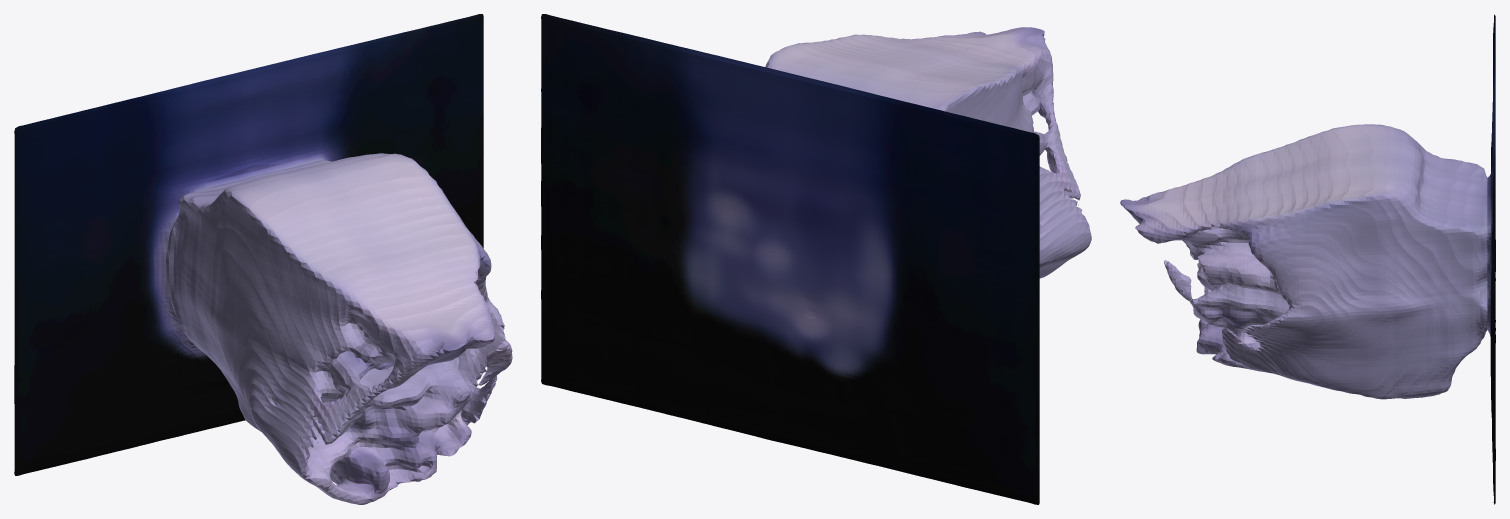
The model's file is 20251031T184912Z_ShapE_c861655ecb1f.glb.
3 views of the same model, side by side, from view 1: azimuth 30°, elevation 25°; view 2: azimuth 150°, elevation 25°; view 3: azimuth 270°, elevation 25° (orthographic). The views are drawn at different scales.
Parts seen in each view (by area): view 1: model.ply; view 2: model.ply; view 3: model.ply.
Boxes of the visible parts, <box> form: model.ply: <box>14,14,512,504</box>; model.ply: <box>541,14,1091,504</box>; model.ply: <box>1120,14,1495,504</box>.
Bounding box in the file's own units: 1.98 × 1.41 × 1.61.
